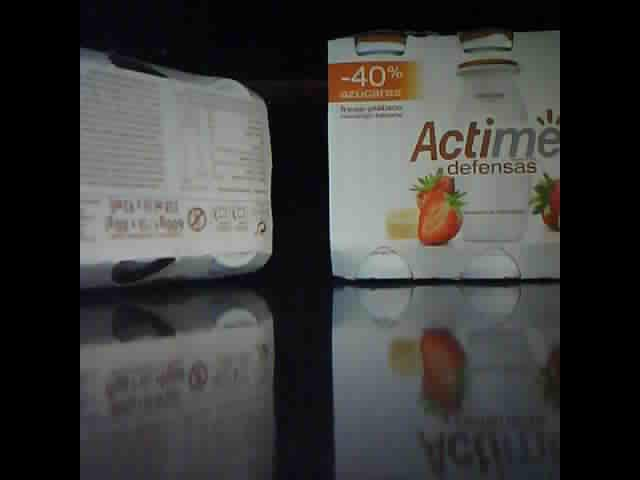actimel: (327, 30, 560, 281), (80, 45, 277, 290)
